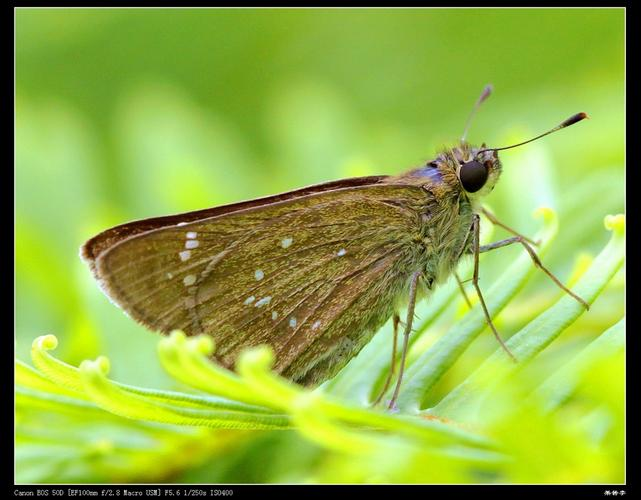Hesperiidae: (77, 84, 596, 406)
